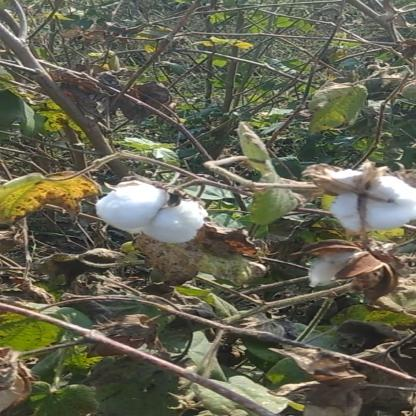cotton_ready: (64, 172, 238, 260), (294, 161, 415, 258)
